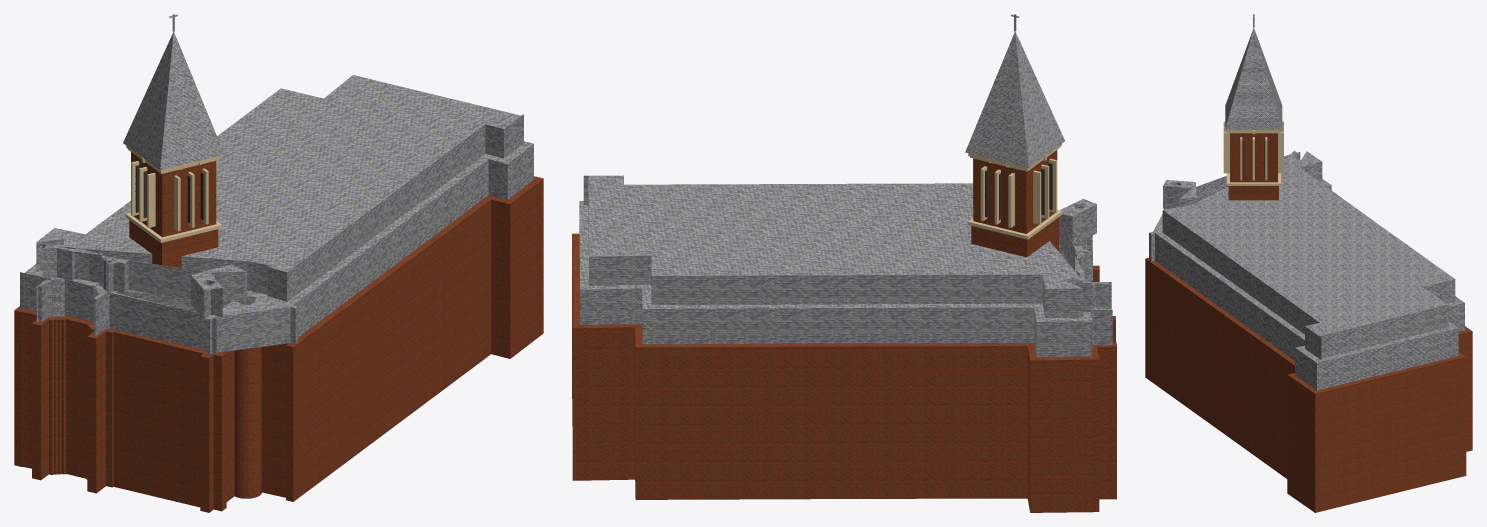
3 views of the same model, side by side, from view 1: azimuth 30°, elevation 25°; view 2: azimuth 150°, elevation 25°; view 3: azimuth 270°, elevation 25° (orthographic). The views are drawn at different scales.
Visible parts, largest first — view 1: lmbase_453577567, lmbase_453577567_roof_b, lmbase_453577567_roof_a, lmbase_453577567_tower; view 2: lmbase_453577567, lmbase_453577567_roof_b, lmbase_453577567_roof_a, lmbase_453577567_tower; view 3: lmbase_453577567, lmbase_453577567_roof_b, lmbase_453577567_roof_a, lmbase_453577567_tower.
Part boxes in pixels (<box>): lmbase_453577567: <box>14,176,543,512</box>; lmbase_453577567_roof_b: <box>36,75,523,319</box>; lmbase_453577567_roof_a: <box>20,141,533,354</box>; lmbase_453577567_tower: <box>123,14,224,267</box>; lmbase_453577567: <box>572,233,1116,512</box>; lmbase_453577567_roof_b: <box>583,175,1096,317</box>; lmbase_453577567_roof_a: <box>579,201,1112,358</box>; lmbase_453577567_tower: <box>965,14,1064,257</box>; lmbase_453577567: <box>1145,257,1472,512</box>; lmbase_453577567_roof_b: <box>1162,150,1455,359</box>; lmbase_453577567_roof_a: <box>1149,179,1464,390</box>; lmbase_453577567_tower: <box>1223,14,1283,200</box>.
Size of the model in its own units: 46.81 by 37.63 by 32.38.
Materials: 6 (3 with a texture image).
